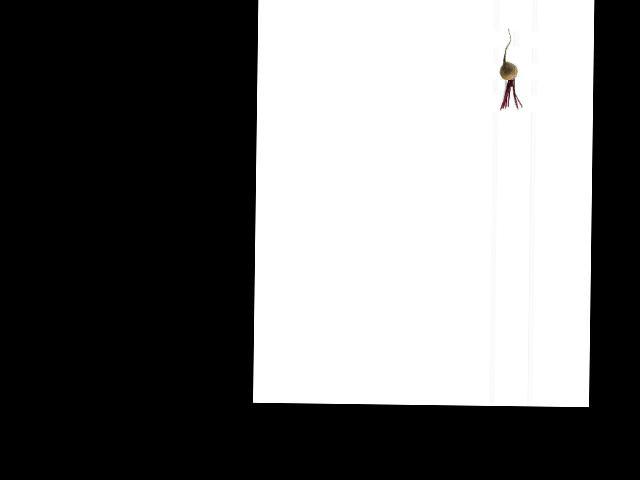beet: (499, 27, 522, 110)
